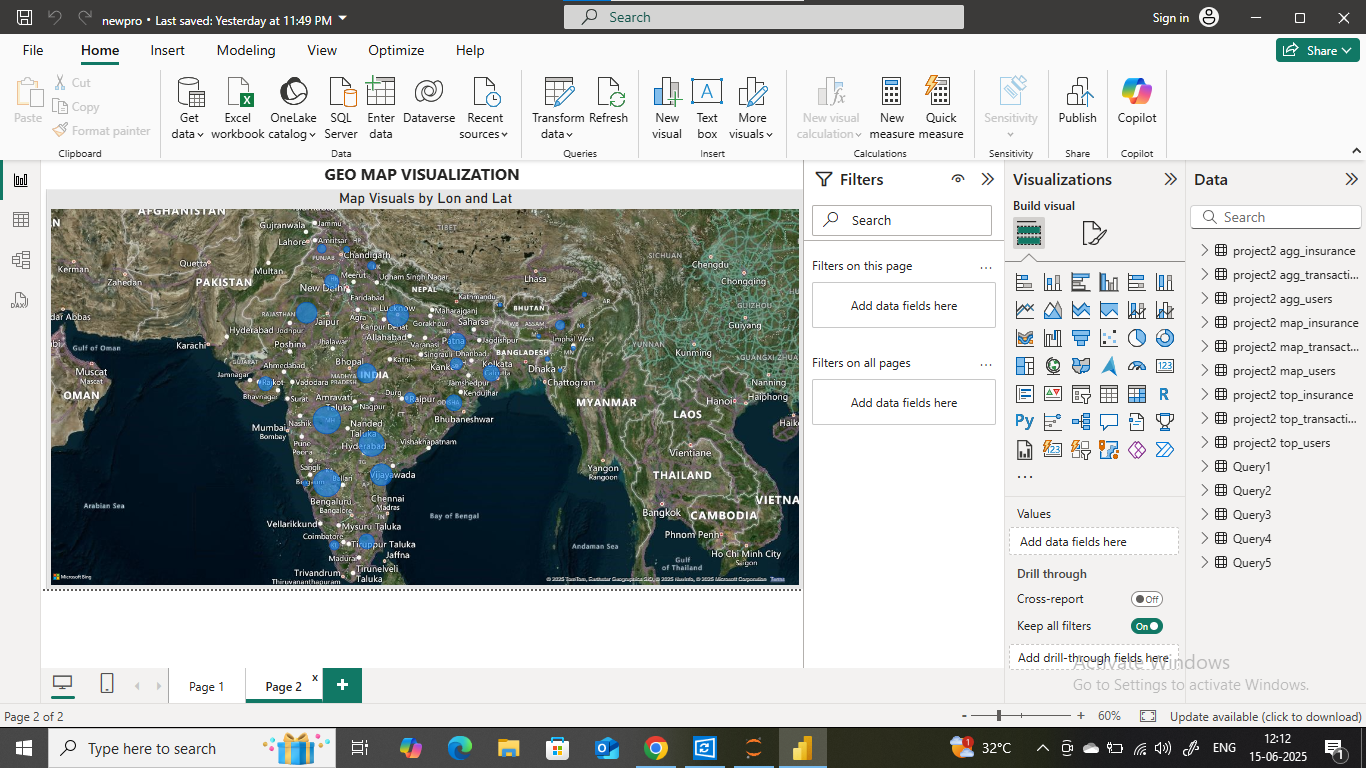

This screenshot's page, from the dashboard's own definition file:
{"tool":"powerbi","page":{"name":"Page 2","canvas":[1280,720],"ordinal":1},"visuals":[{"type":"map","title":"Map Visuals by Lon and Lat","fields":{"Size":["Query5.total_transactions"],"Category":["Query5.States"],"X":["Query5.lon"],"Y":["Query5.lat"]},"box":[10.1,48.7,1269.9,671.9],"z":0},{"type":"textbox","box":[0,0,1280,48.7],"z":1}]}

Visuals, with their boxes on the page's 1280x720 design canvas (x1, y1, x2, y2). These are canvas units, not pixel positions in the 1366x768 screenshot, which may show the page scaled, cropped or inside an application window:
"Map Visuals by Lon and Lat" map: [10,49,1280,721]
textbox: [0,0,1280,49]
